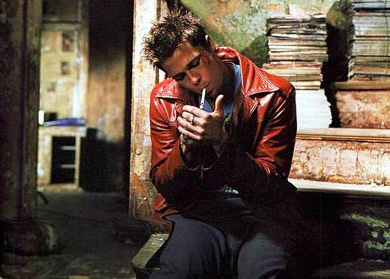cigarette: (199, 87, 207, 108)
